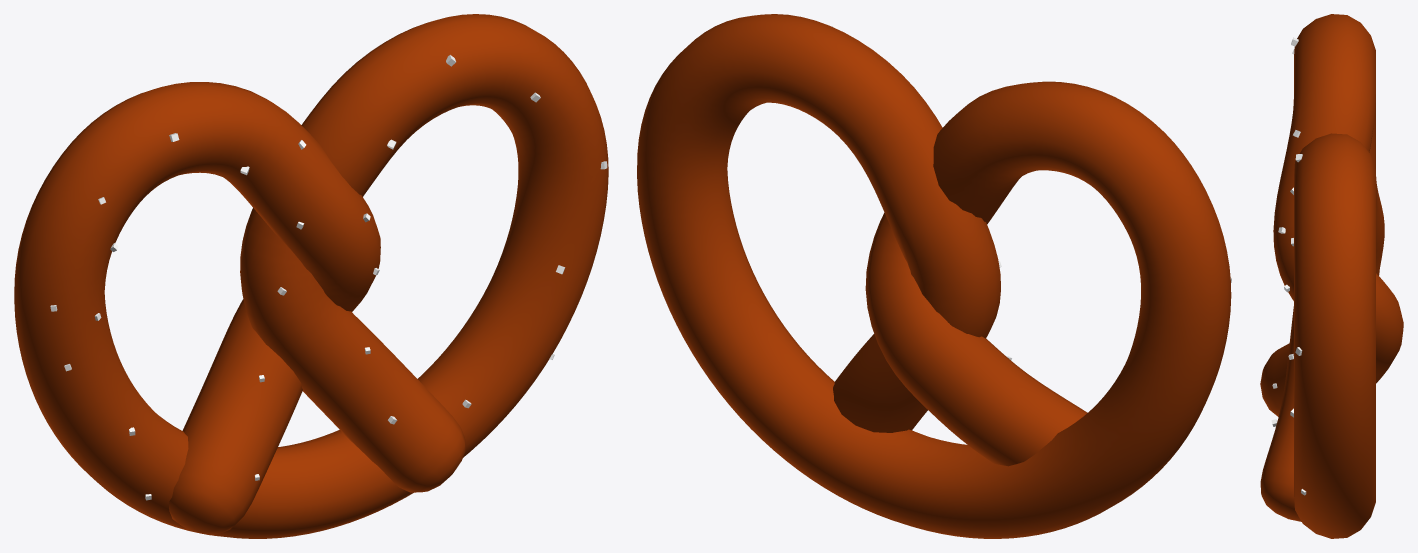
File: pretzel.gltf
3 renders of one model, left to right at view 1: azimuth 30°, elevation 25°; view 2: azimuth 150°, elevation 25°; view 3: azimuth 270°, elevation 25°, orthographic. The views are drawn at different scales.
Visible parts, largest first — view 1: Circle.2202; view 2: Circle.2202; view 3: Circle.2202.
Boxes of the visible parts, x1=… form: Circle.2202: x1=14, y1=14, x2=608, y2=538; Circle.2202: x1=637, y1=14, x2=1231, y2=538; Circle.2202: x1=1260, y1=14, x2=1403, y2=538.
Bounding box in the file's own units: 2.44 × 1.89 × 0.5812.
Materials: 1 (1 with a texture image).
